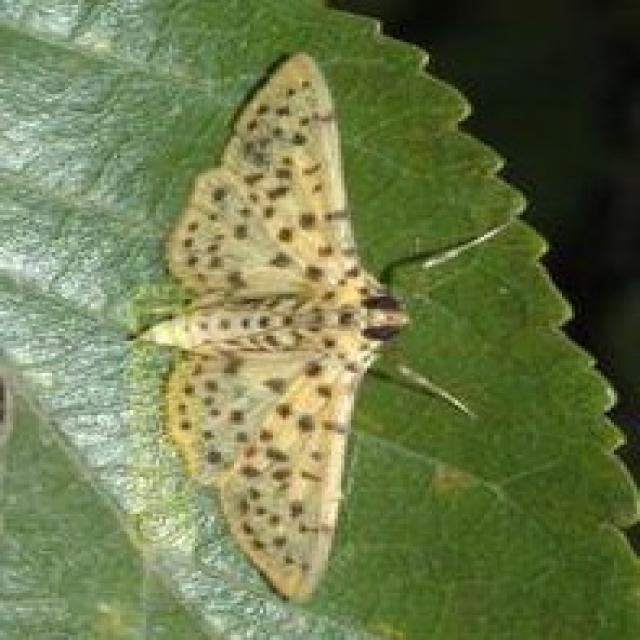peach borer: (121, 52, 427, 613)
